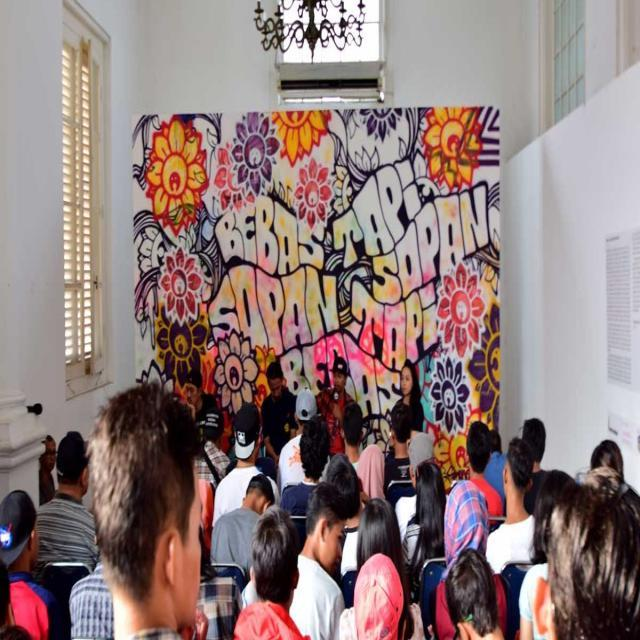-: (134, 107, 502, 491)
